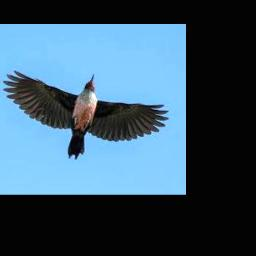Woodpecker: (3, 71, 168, 159)
